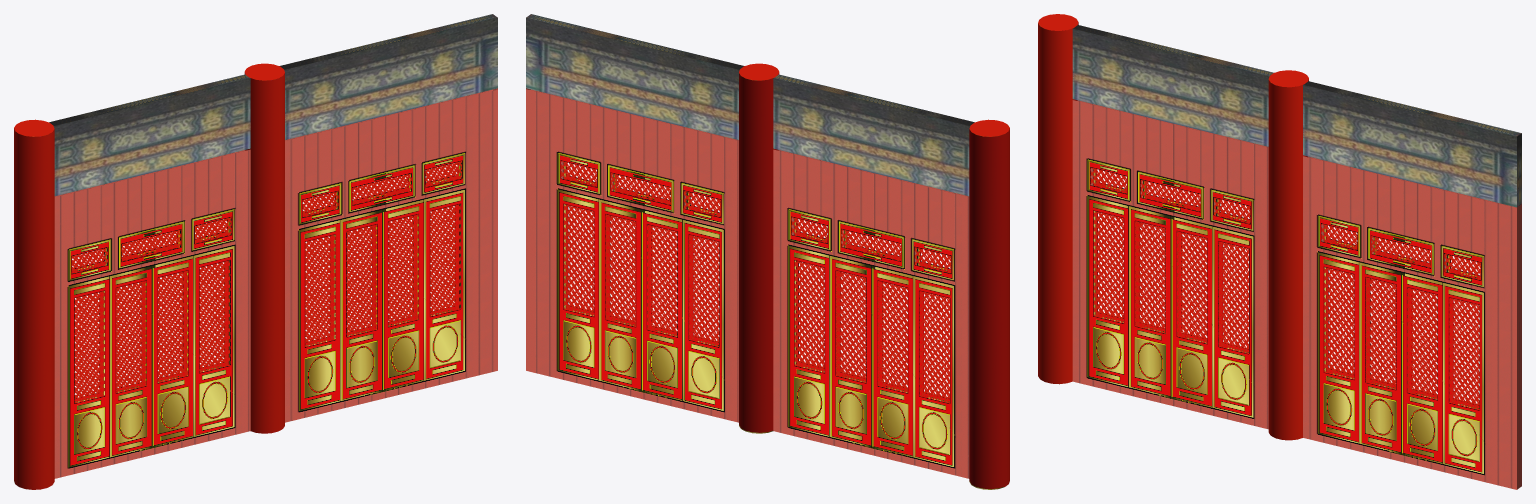
The model's file is wallwall.dae.
3 views of the same model, side by side, from view 1: azimuth 30°, elevation 25°; view 2: azimuth 150°, elevation 25°; view 3: azimuth 330°, elevation 25° (orthographic).
Parts seen in each view (by area): view 1: MainNode; view 2: MainNode; view 3: MainNode.
Boxes of the visible parts, left/top/right/bottom form: MainNode: left=14, top=14, right=497, bottom=489; MainNode: left=526, top=14, right=1009, bottom=489; MainNode: left=1038, top=14, right=1521, bottom=489.
Bounding box in the file's own units: 6.81 × 4.8 × 0.4904.
1 material, 1 textured.
